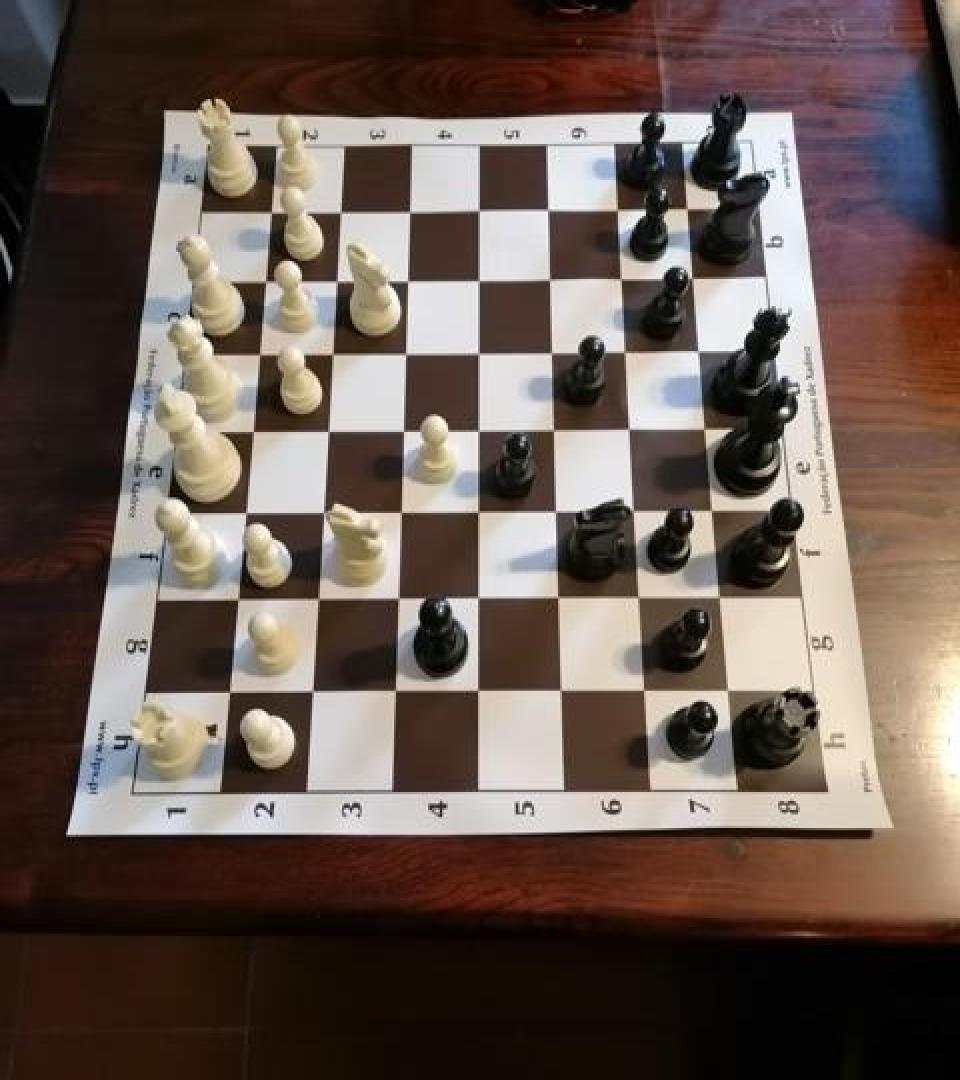xcorner: (674, 192, 702, 224), (604, 193, 632, 225), (324, 198, 352, 230), (255, 199, 283, 231), (680, 262, 708, 294), (608, 263, 636, 295), (536, 263, 564, 295), (464, 264, 492, 296), (392, 265, 420, 297), (687, 335, 715, 367), (612, 335, 640, 367), (538, 336, 566, 368), (464, 337, 492, 369), (540, 414, 568, 446), (464, 415, 492, 447), (388, 415, 416, 447), (312, 416, 340, 448), (236, 417, 264, 449), (701, 495, 729, 527), (622, 495, 650, 527), (543, 496, 571, 528), (464, 497, 492, 529), (386, 497, 414, 529), (307, 498, 335, 530), (229, 498, 257, 530), (383, 585, 411, 617), (303, 585, 331, 617), (222, 586, 250, 618), (717, 676, 745, 708), (633, 676, 661, 708), (548, 676, 576, 708), (464, 677, 492, 709), (381, 677, 409, 709), (297, 678, 325, 710), (214, 678, 242, 710), (534, 195, 562, 226), (464, 196, 492, 227), (394, 197, 422, 228), (320, 267, 348, 298), (249, 268, 277, 299), (390, 339, 418, 370), (316, 340, 344, 371), (243, 340, 271, 371), (694, 413, 722, 444), (617, 413, 645, 444), (709, 583, 737, 614), (627, 583, 655, 614), (546, 584, 574, 615), (464, 584, 492, 615)
